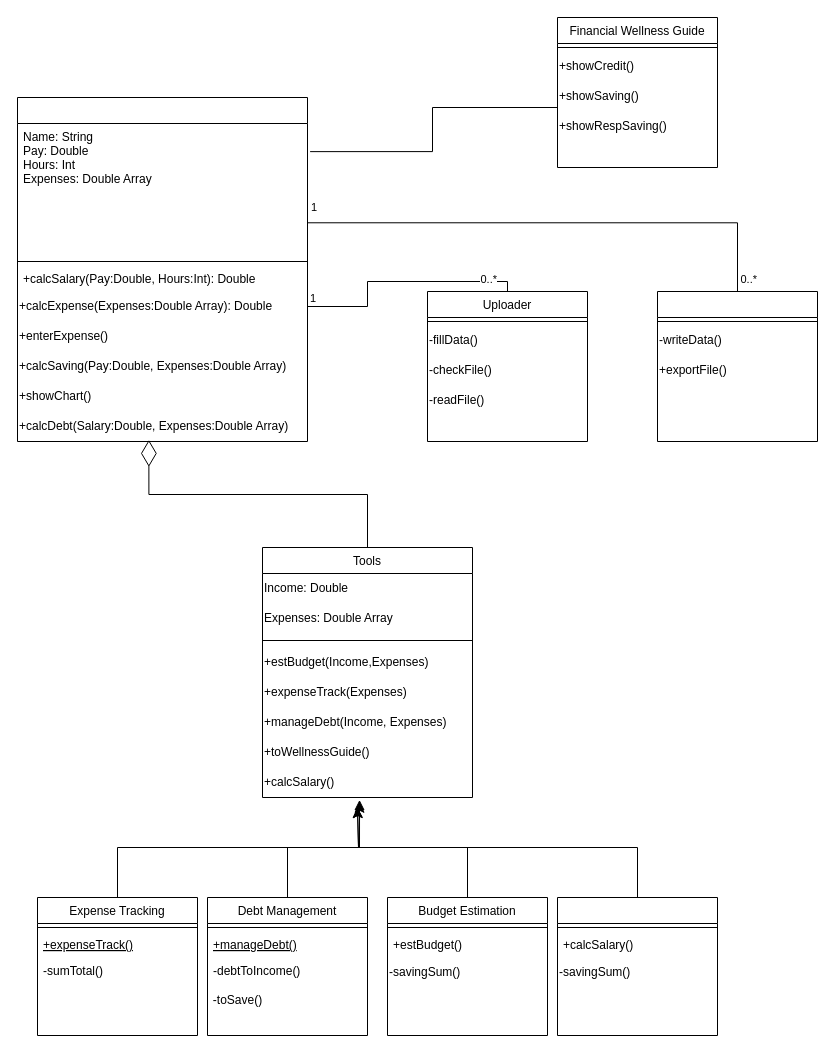
Some shapes in this 835 by 1053 pixel diagram are drawn without their labels. The shapes that lost their labels are listed below. From the top down, each one's box as (x1, y1, x2, y2) in pixels, then its label:
(16, 96, 308, 442): User
(656, 290, 818, 442): Exporter
(556, 896, 718, 1036): Salary Estimation
